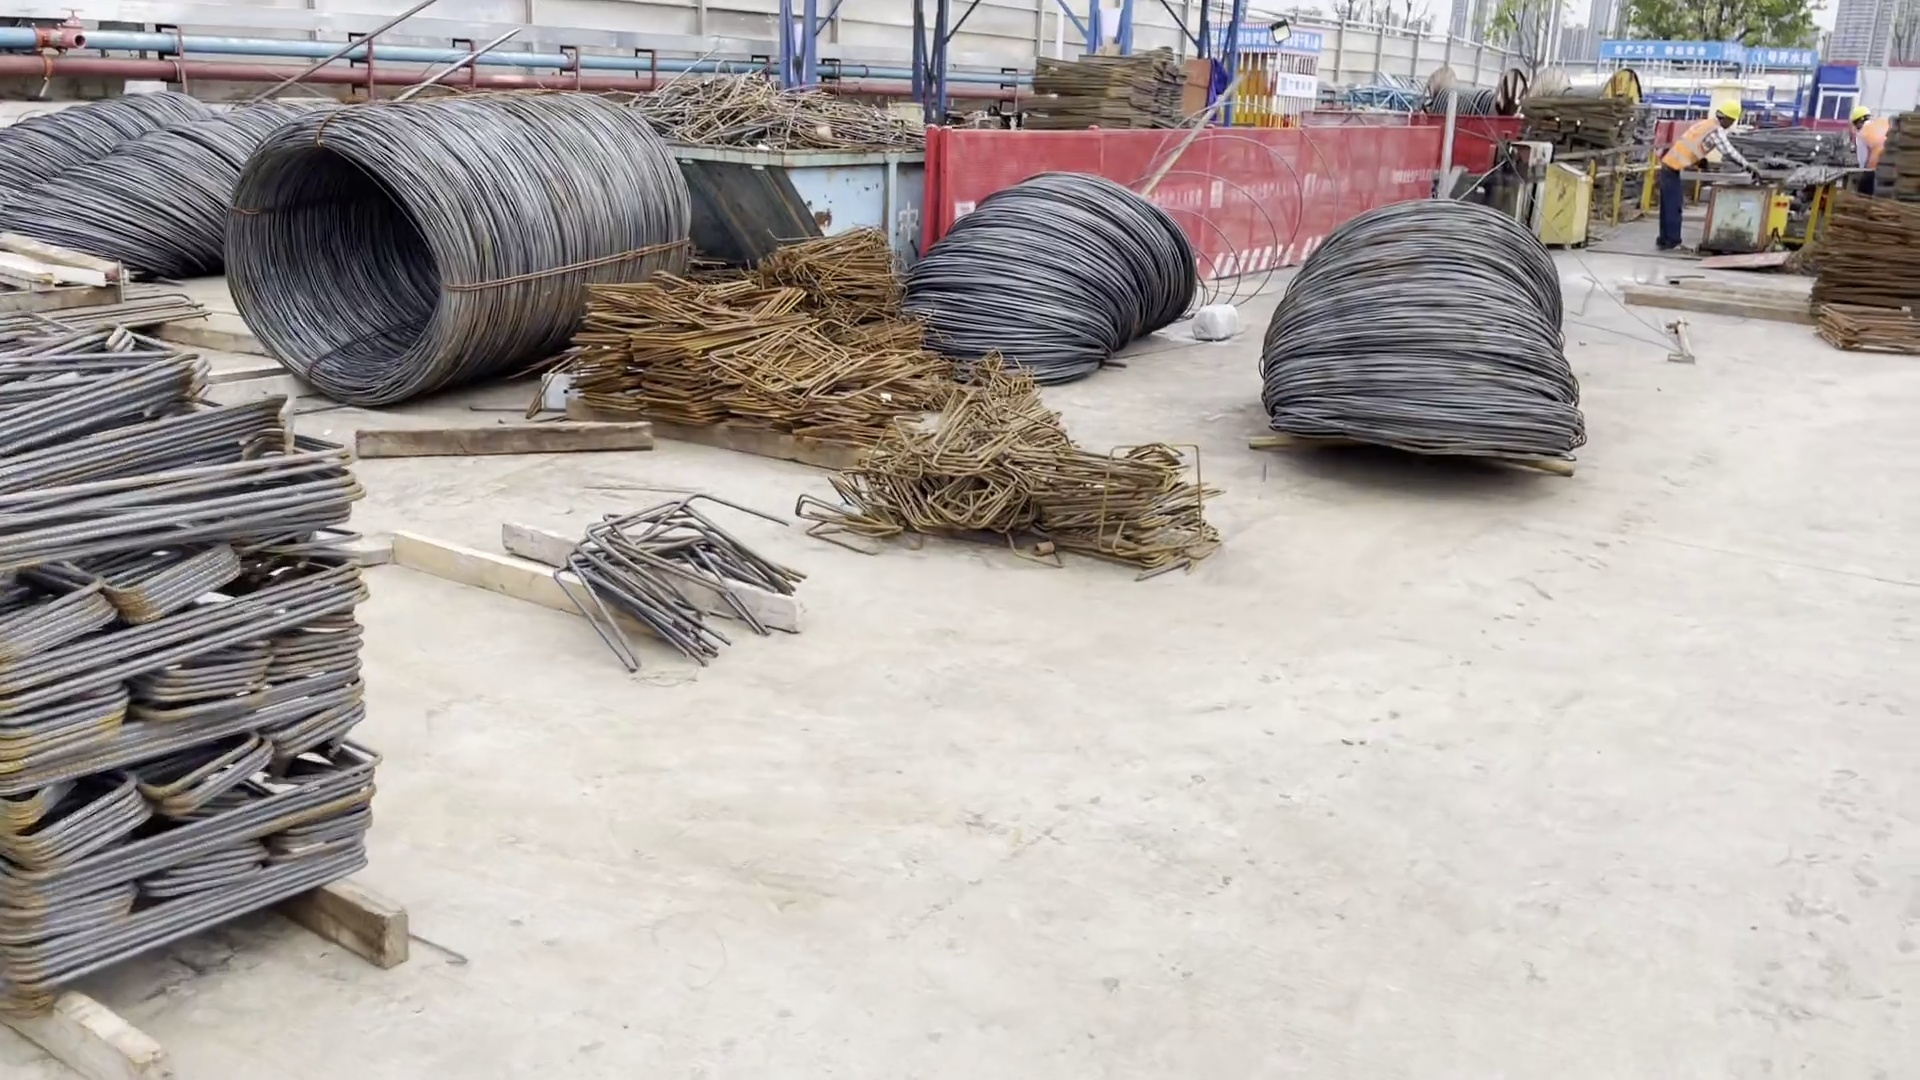cutter: (1695, 177, 1802, 269)
ebox: (1524, 153, 1595, 253), (1229, 58, 1295, 137)
fence: (910, 116, 1445, 280), (1419, 109, 1526, 187)
helmet: (1717, 98, 1744, 123), (1848, 105, 1875, 120)
hopper: (648, 124, 930, 268)
person: (1652, 89, 1756, 269), (1825, 85, 1893, 193)
slogan: (1587, 24, 1819, 84), (1202, 17, 1318, 69)
vest: (1652, 115, 1728, 195), (1851, 120, 1906, 182)
